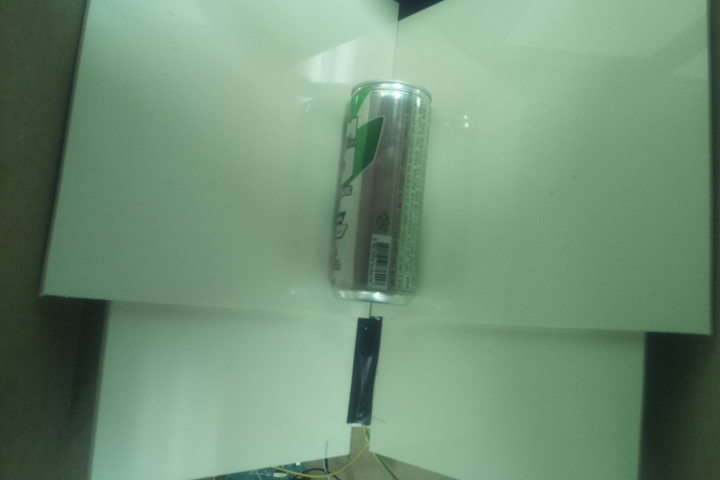can: (327, 75, 434, 310)
